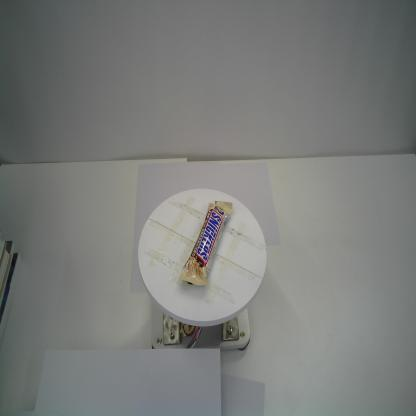Chocolate: (178, 199, 233, 287)
